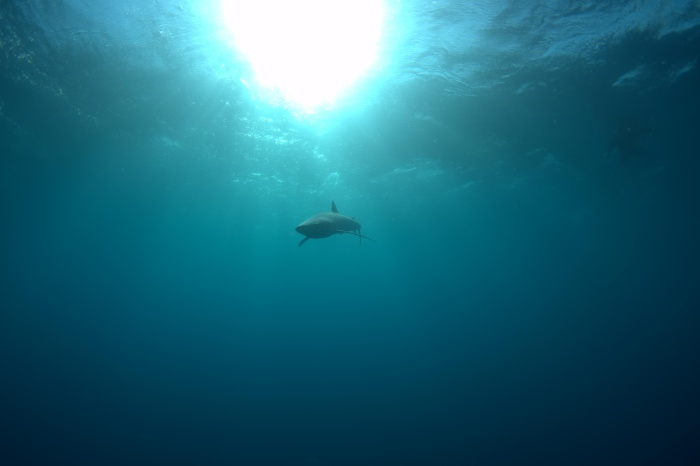Azul: (278, 197, 379, 256)
